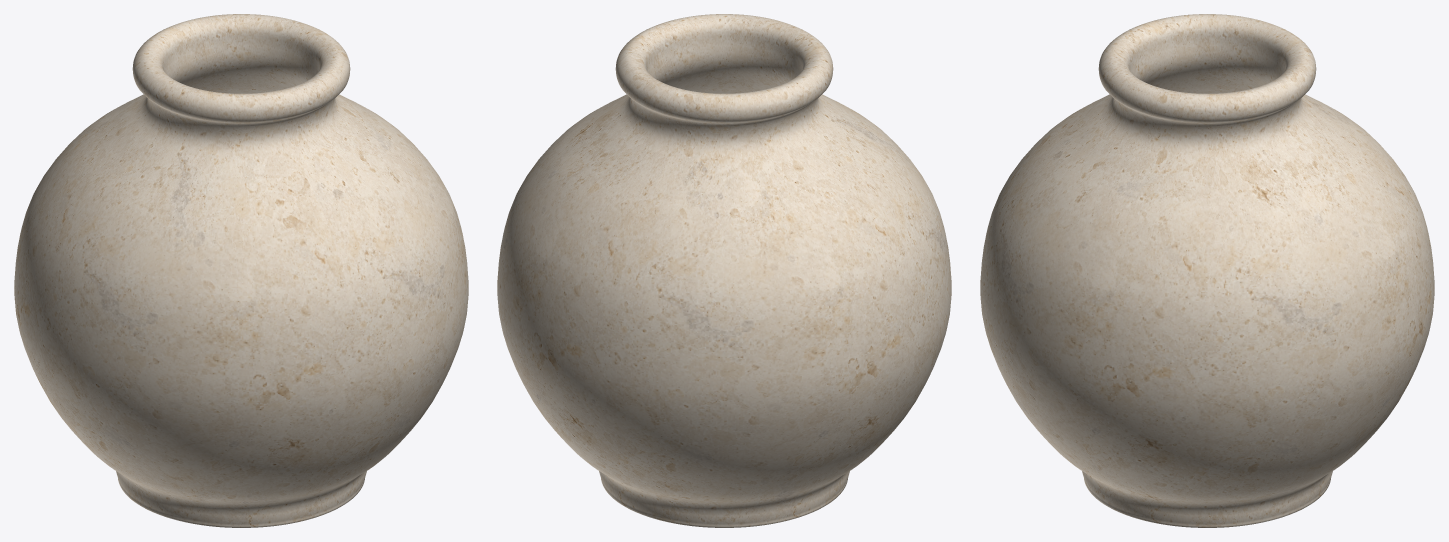
Rendered from boop-vase-large-white.glb.
3 renders of one model, left to right at view 1: azimuth 30°, elevation 25°; view 2: azimuth 150°, elevation 25°; view 3: azimuth 270°, elevation 25°, orthographic.
Visible parts, largest first — view 1: vase-large-white; view 2: vase-large-white; view 3: vase-large-white.
Boxes of the visible parts, bbox=[...] form: vase-large-white: bbox=[14, 14, 468, 527]; vase-large-white: bbox=[497, 14, 951, 527]; vase-large-white: bbox=[980, 14, 1434, 527].
Size of the model in its own units: 0.0322 by 0.033 by 0.0322.
Materials: 1 (1 with a texture image).
